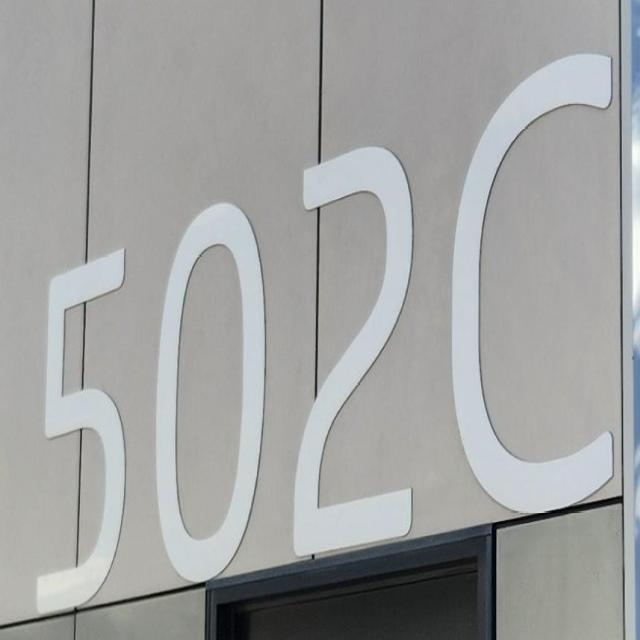character: (448, 50, 619, 515), (289, 140, 416, 560), (154, 198, 270, 587), (30, 243, 131, 618)
